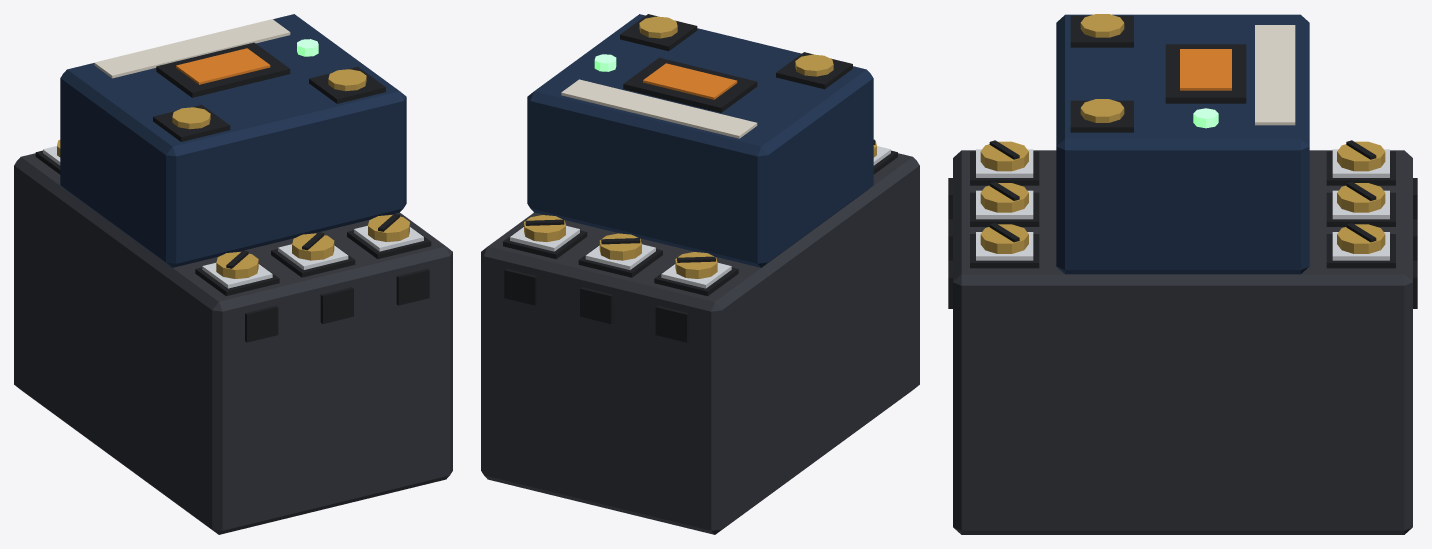
Rendered from relay_quality.glb.
3 views of the same model, side by side, from view 1: azimuth 30°, elevation 25°; view 2: azimuth 150°, elevation 25°; view 3: azimuth 270°, elevation 25° (orthographic). The views are drawn at different scales.
Visible parts, largest first — view 1: relay_quality; view 2: relay_quality; view 3: relay_quality.
Boxes of the visible parts, x1,y1,x2,y2 form: relay_quality: [14, 14, 452, 534]; relay_quality: [481, 14, 919, 534]; relay_quality: [948, 14, 1417, 534].
Bounding box in the file's own units: 0.054 × 0.0782 × 0.0816.
